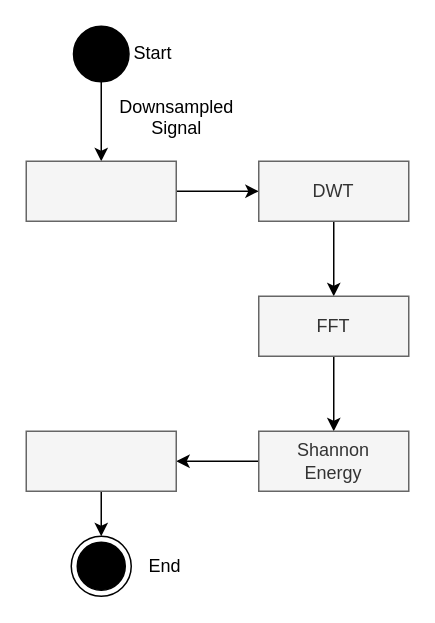
Some shapes in this 435 by 623 pixel diagram are drawn without their labels. The centre of each missing label's shape, as x and y in pixels:
Envelope: point (100, 460)
Normalisation: point (100, 190)
